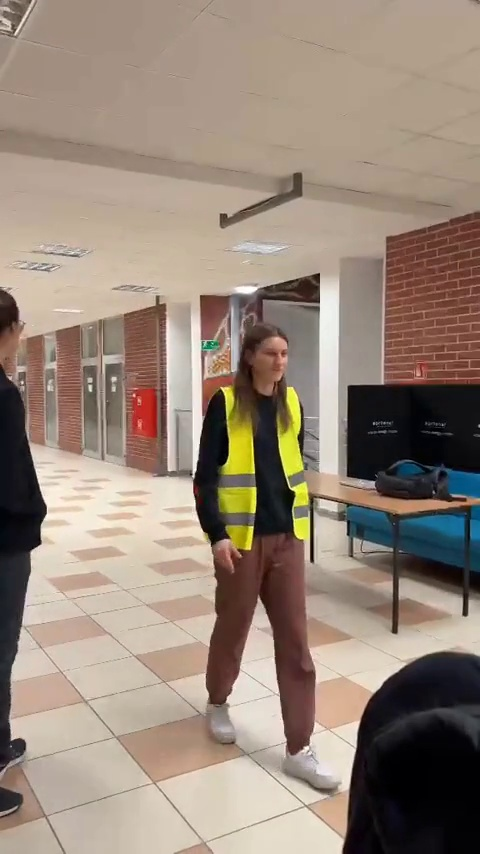vest: (193, 319, 345, 792)
